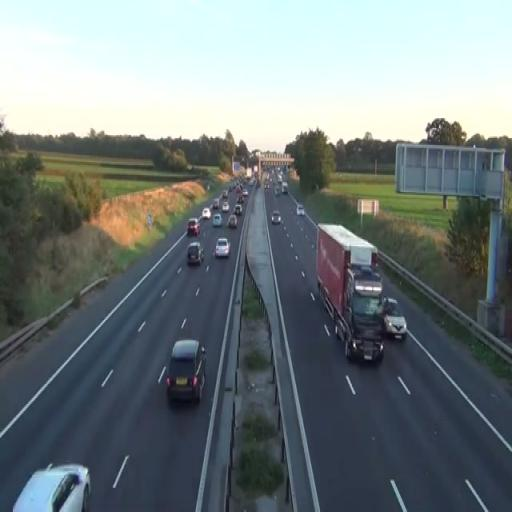Car: (12, 462, 92, 512), (166, 339, 207, 406), (382, 296, 407, 340), (214, 236, 230, 260), (186, 242, 202, 266), (186, 218, 200, 236), (212, 212, 223, 227), (271, 210, 282, 224), (228, 214, 238, 228), (202, 208, 211, 219)
Truck: (316, 222, 386, 364)
